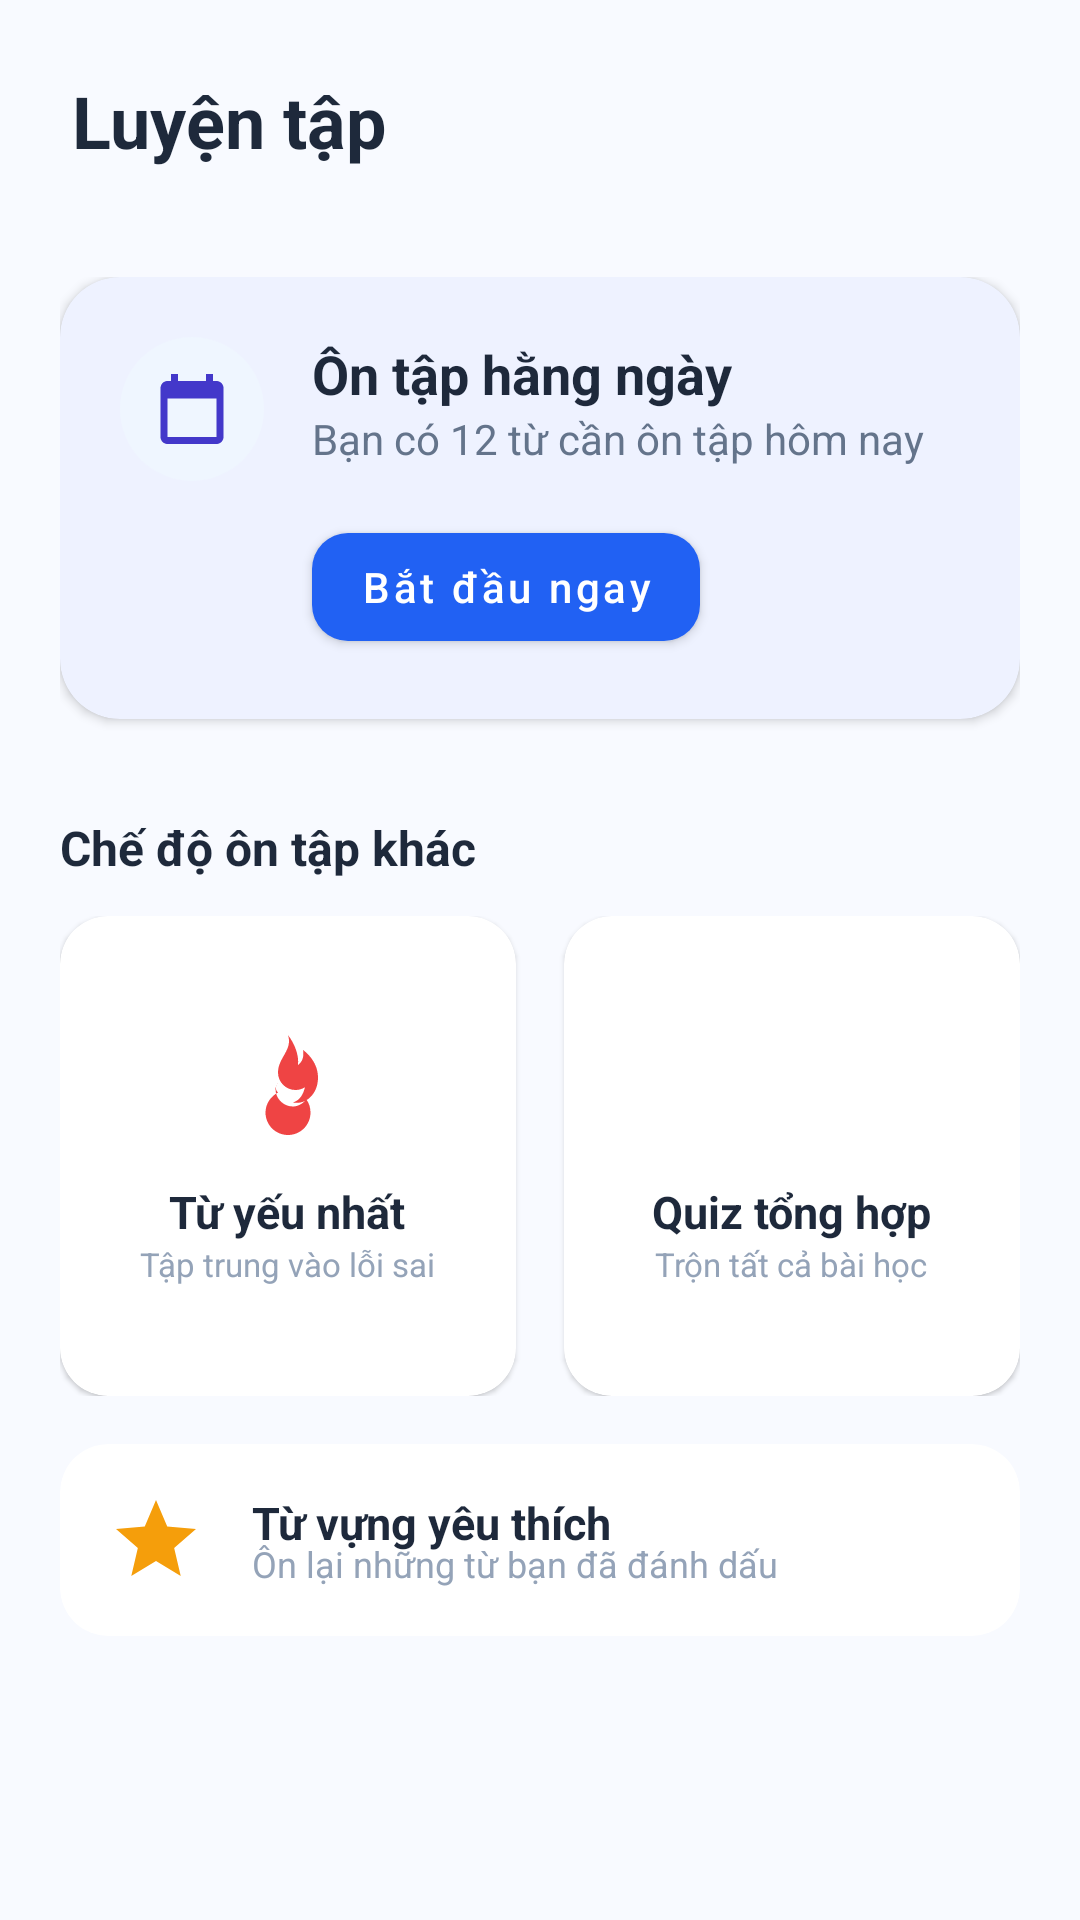

Where to tap for icons on this 1080*1920 app screen, as (x=x, y=y):
calendar: (x=192, y=409)
flame: (x=291, y=1085)
star: (x=156, y=1538)
